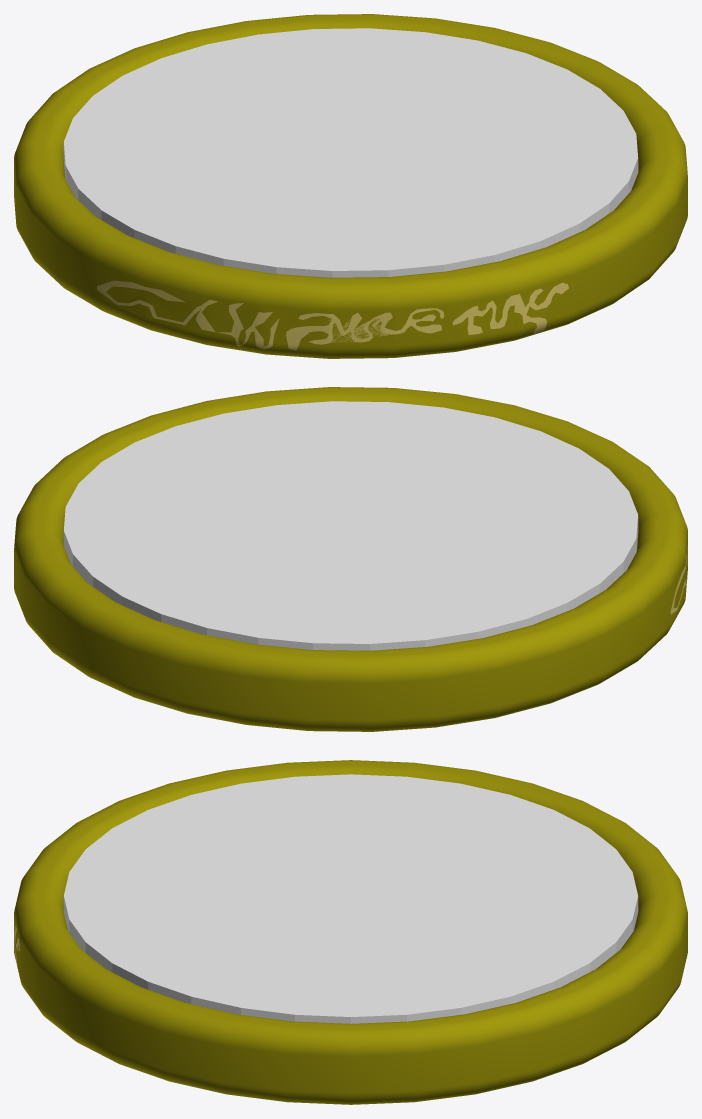
File: pirscin.fbx
3 views of the same model, one above another, from view 1: azimuth 30°, elevation 25°; view 2: azimuth 150°, elevation 25°; view 3: azimuth 270°, elevation 25° (orthographic).
Parts seen in each view (by area): view 1: Cylinder.001, Cylinder; view 2: Cylinder.001, Cylinder; view 3: Cylinder.001, Cylinder.
Part boxes in pixels (box(x1,y1,x2,y2)): Cylinder.001: box(63, 28, 638, 277); Cylinder: box(14, 14, 687, 358); Cylinder.001: box(63, 401, 638, 650); Cylinder: box(14, 387, 687, 731); Cylinder.001: box(63, 774, 638, 1023); Cylinder: box(14, 760, 687, 1104).
Bounding box in the file's own units: 97.83 × 11.77 × 97.83.
